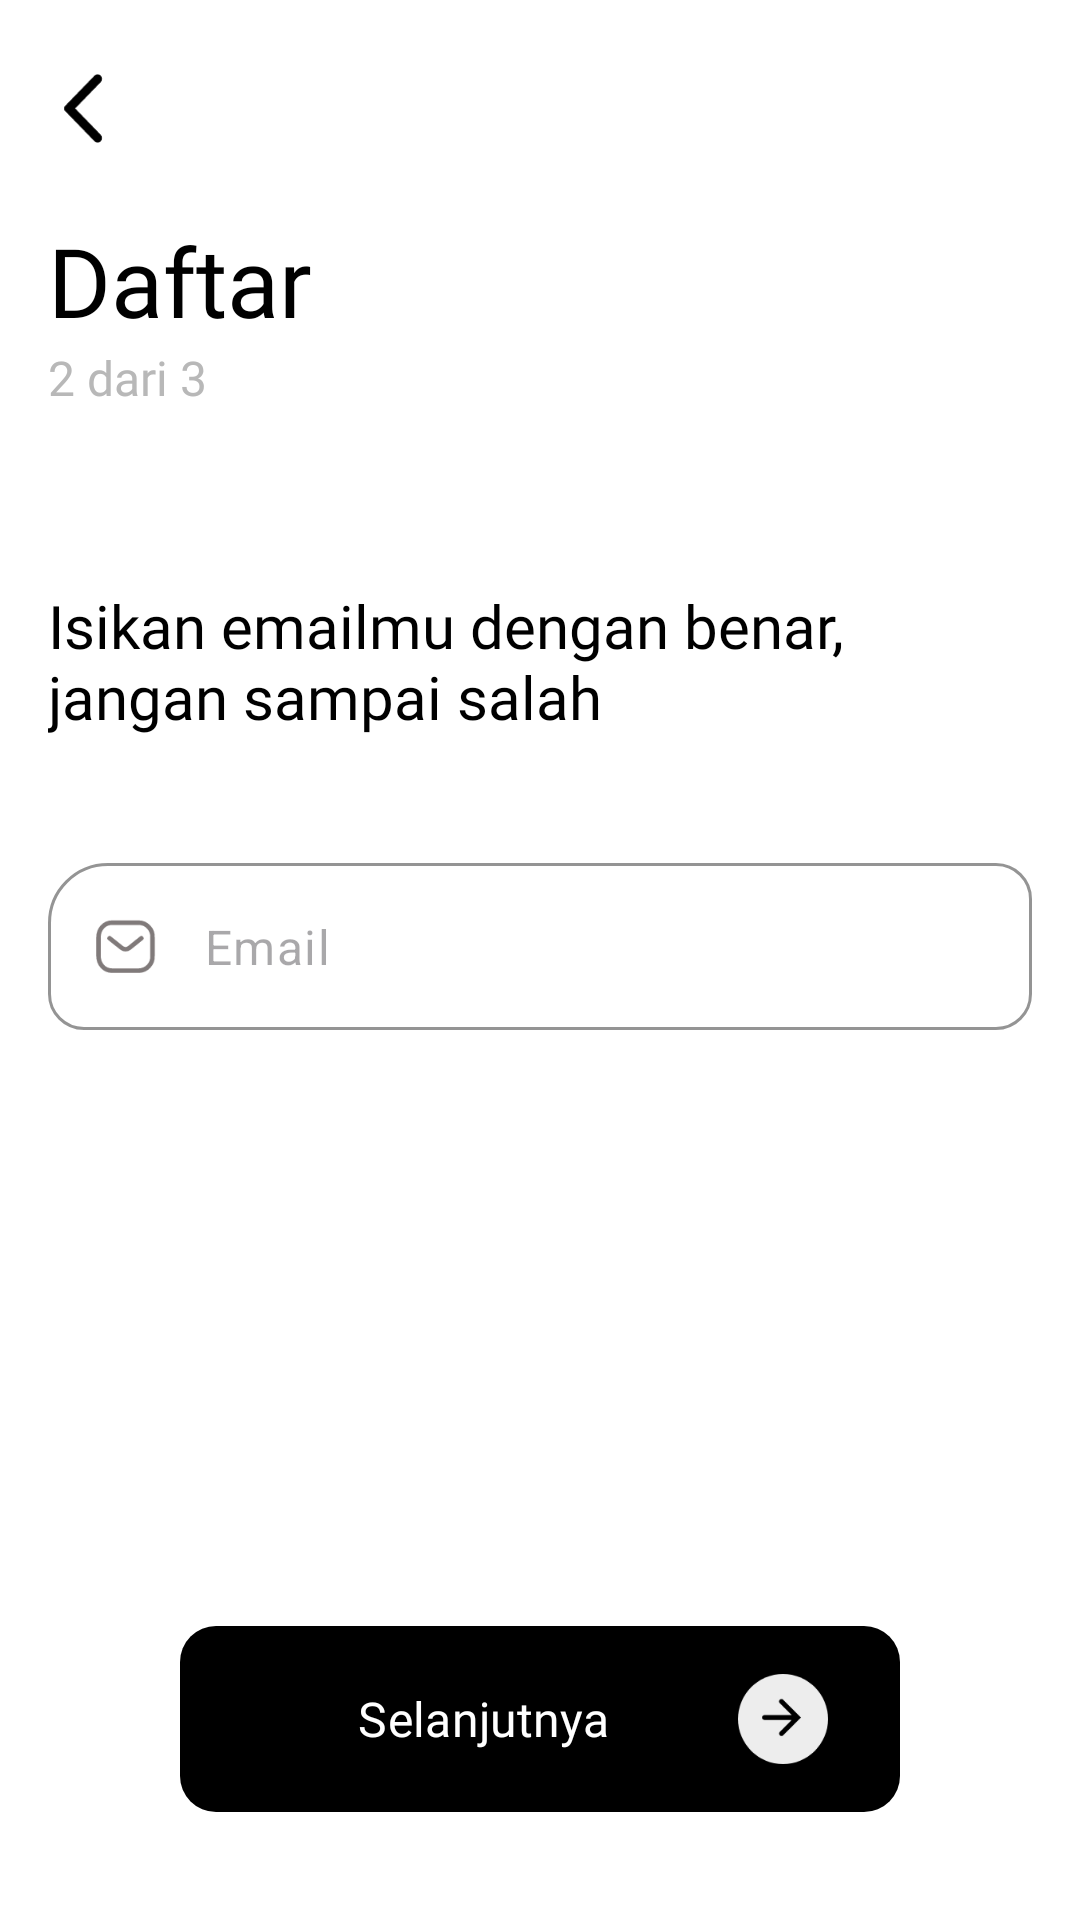

Named icons in this screenshot (1080 x 1920) and their centers, [x,y]:
back: [83,108]
